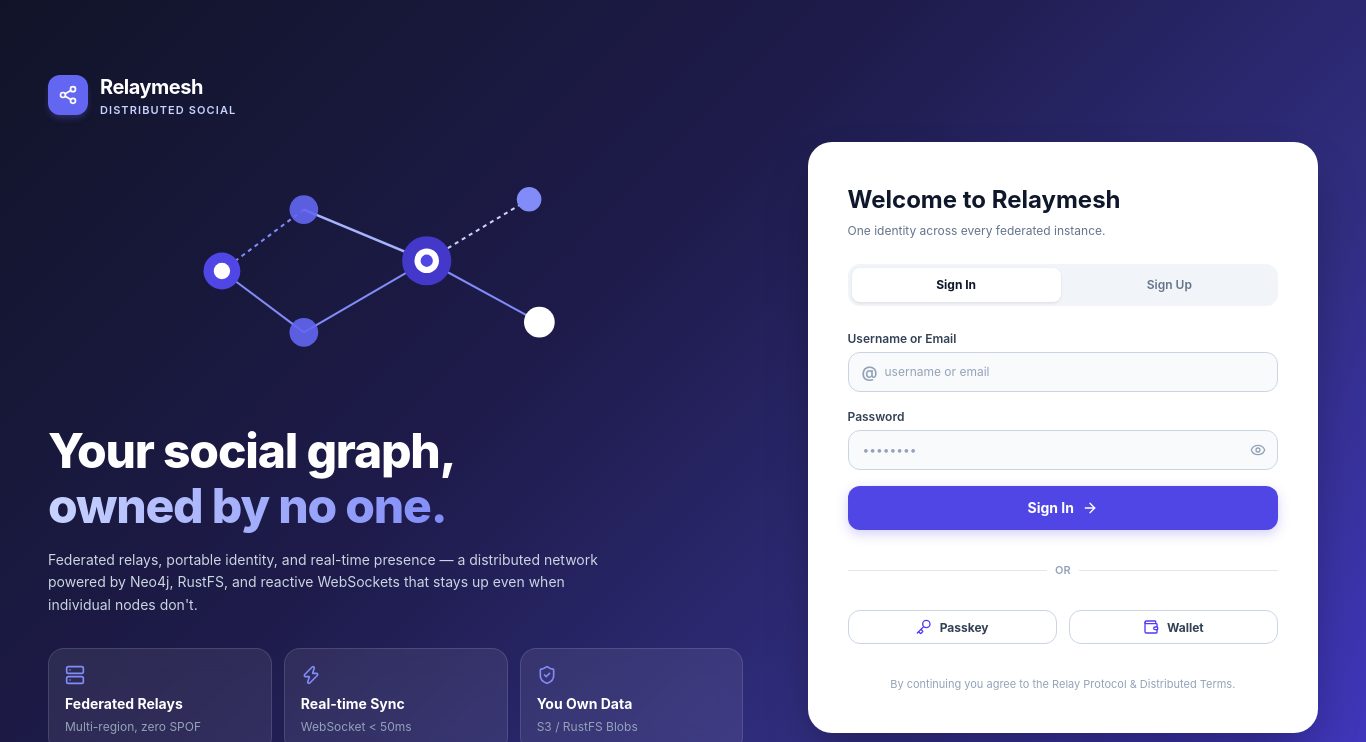
AuthPage Component › switches back to Sign In tab
The image size is (1366, 742).
What coordinates should you click on to do the following:
click the tab "Sign Up"
I would click on:
 (1169, 285)
Its box is x1=1065 y1=268 x2=1274 y2=302.
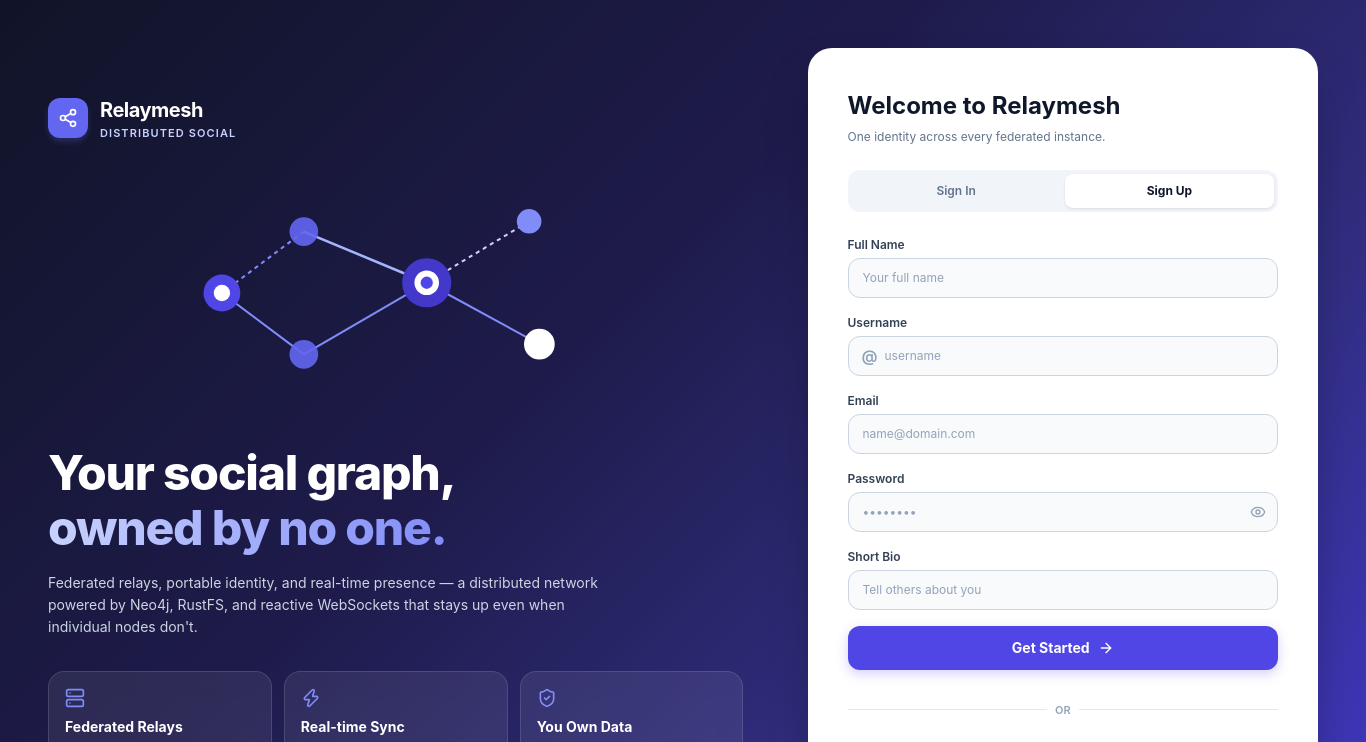
Now the text "Full Name" is shown, box x1=848 y1=237 x2=905 y2=252
What coordinates should you click on to do the following:
click the tab "Sign In"
I would click on:
 (956, 191)
Its box is x1=852 y1=174 x2=1061 y2=208.
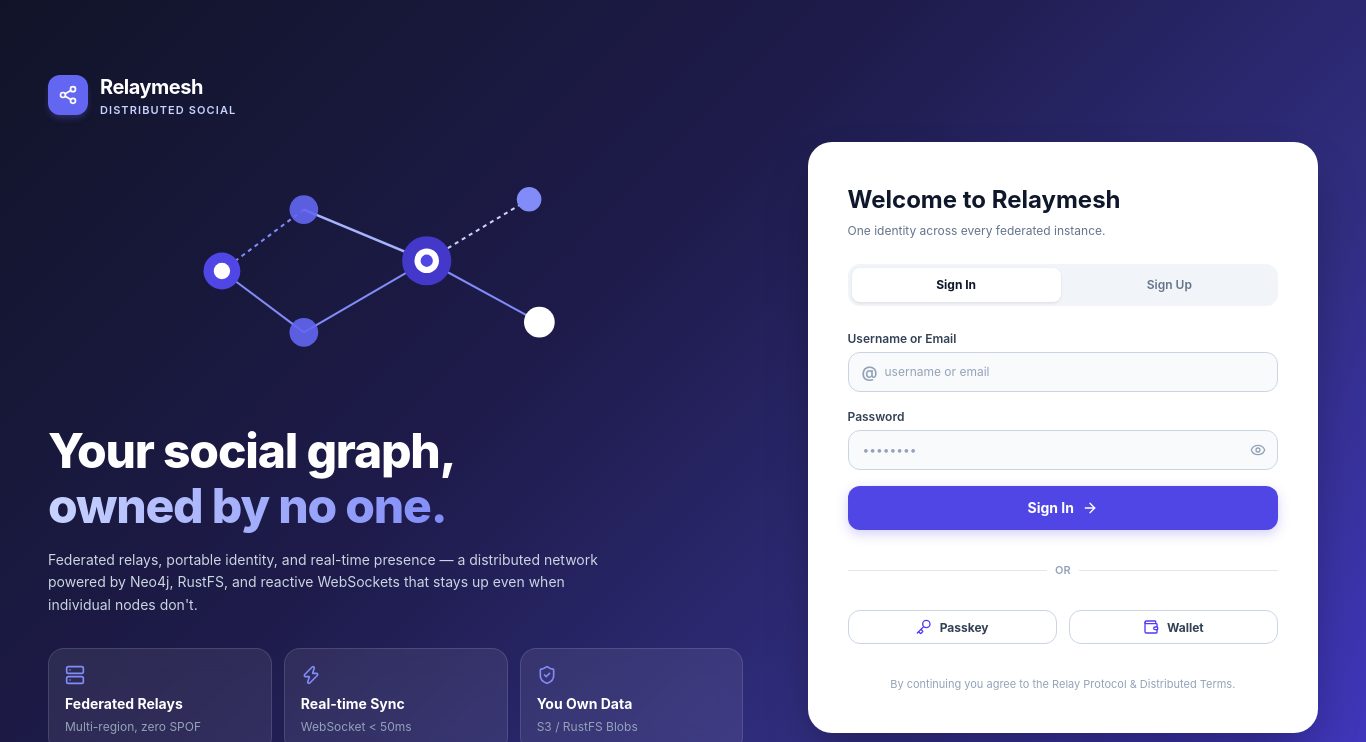
Now the text "Full Name" is gone
Now the text "Short Bio" is gone
